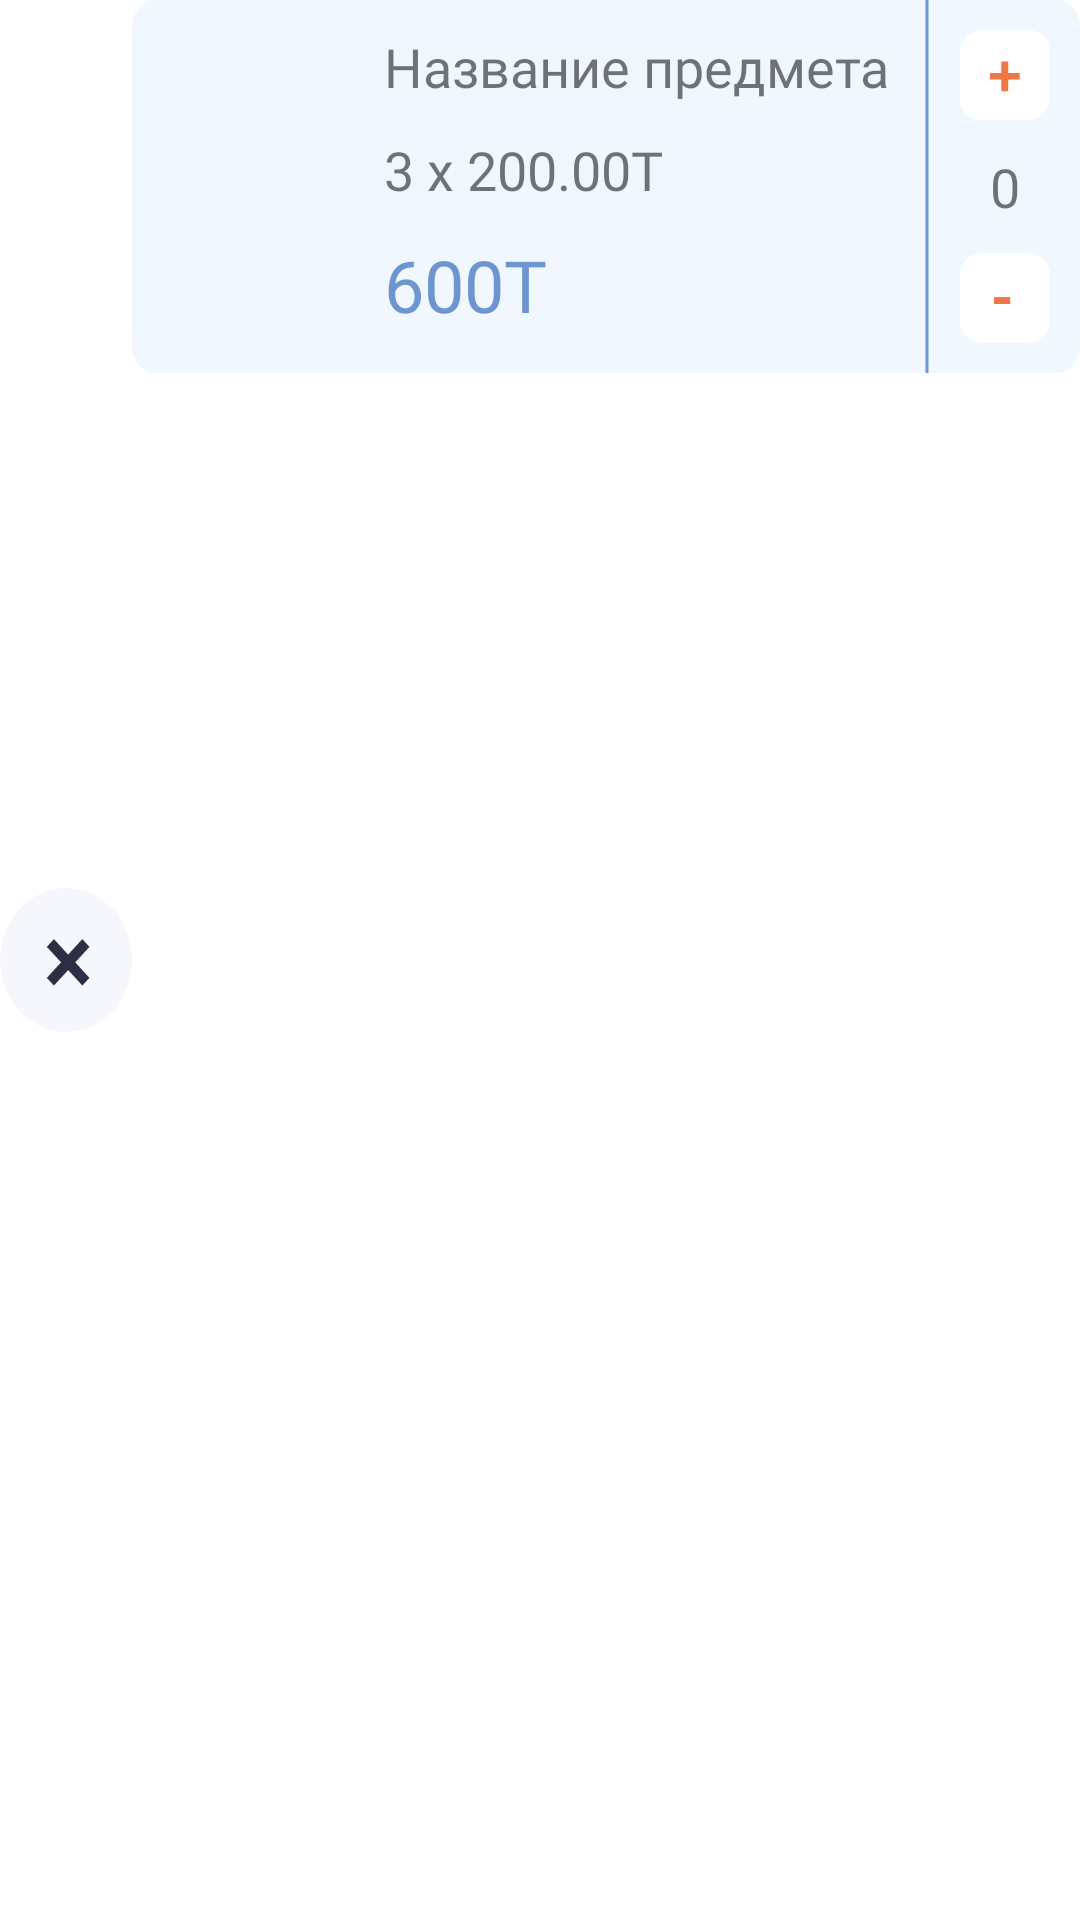

Locate icon controls on the screen. Image size 1080×1920, boxes as (x1, y1, x2, y2).
delete item: (47, 939, 90, 986)
plus: (960, 30, 1050, 120)
